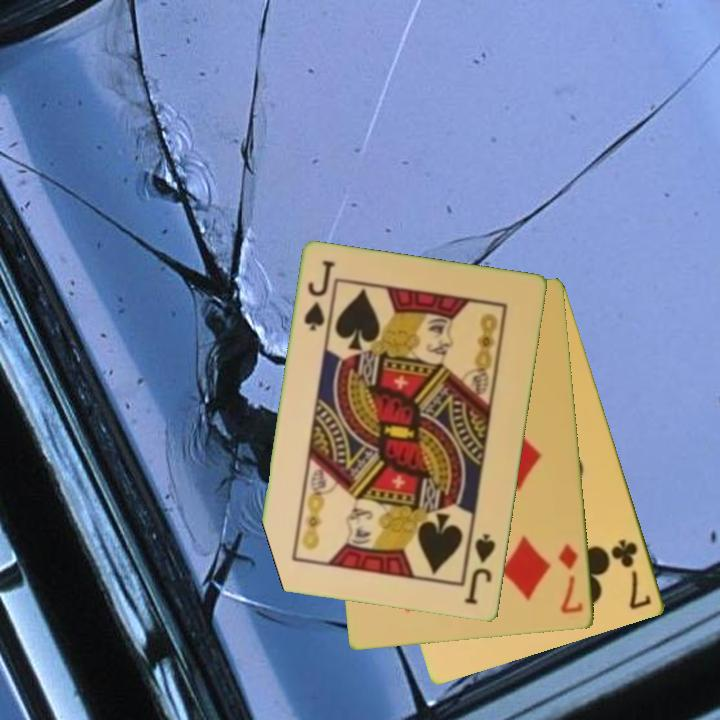7c: (608, 535, 655, 613)
7d: (555, 541, 587, 618)
Js: (461, 530, 499, 608), (301, 257, 338, 334)
